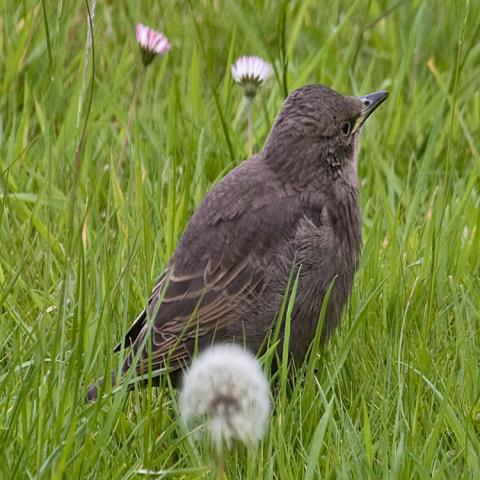bird: (84, 81, 390, 405)
